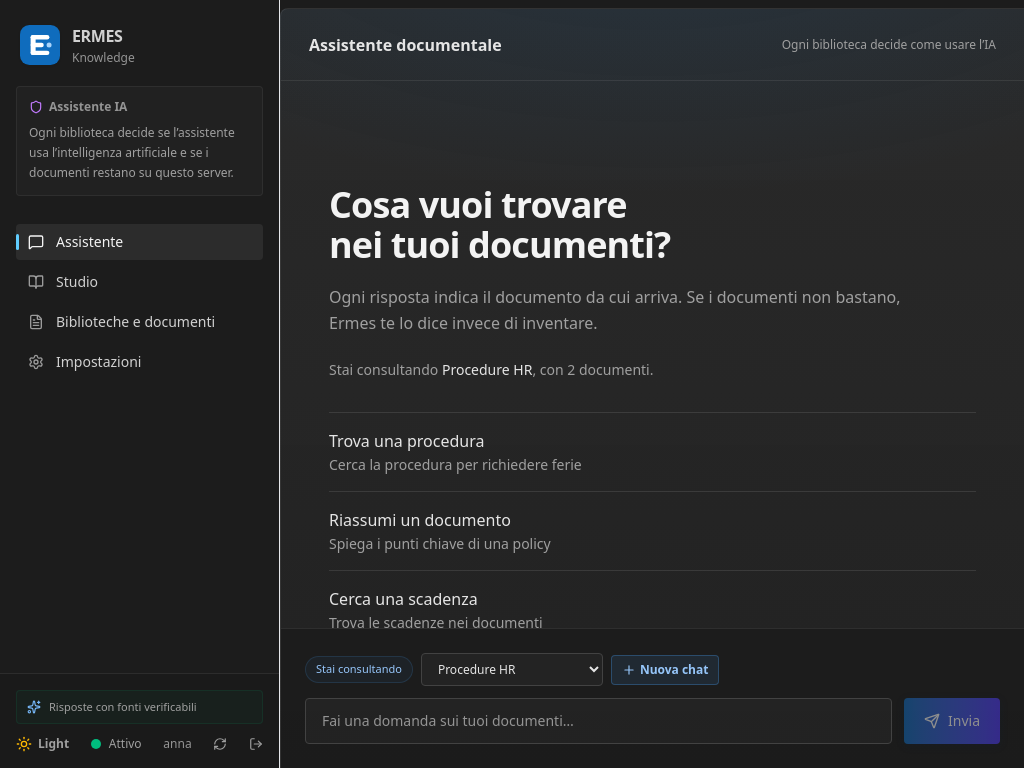
Test: App — SSE answer stream › renders status steps, then the final answer with its citations
The image size is (1024, 768).
Expected: the text "Procedure HR" is shown, [442,360,532,379]
Type "Con quanto anticipo chiedo le ferie?" into the field with placeholder "Fai una domanda sui tuoi documenti…". click: (598, 721)
box: [305,698,892,744]
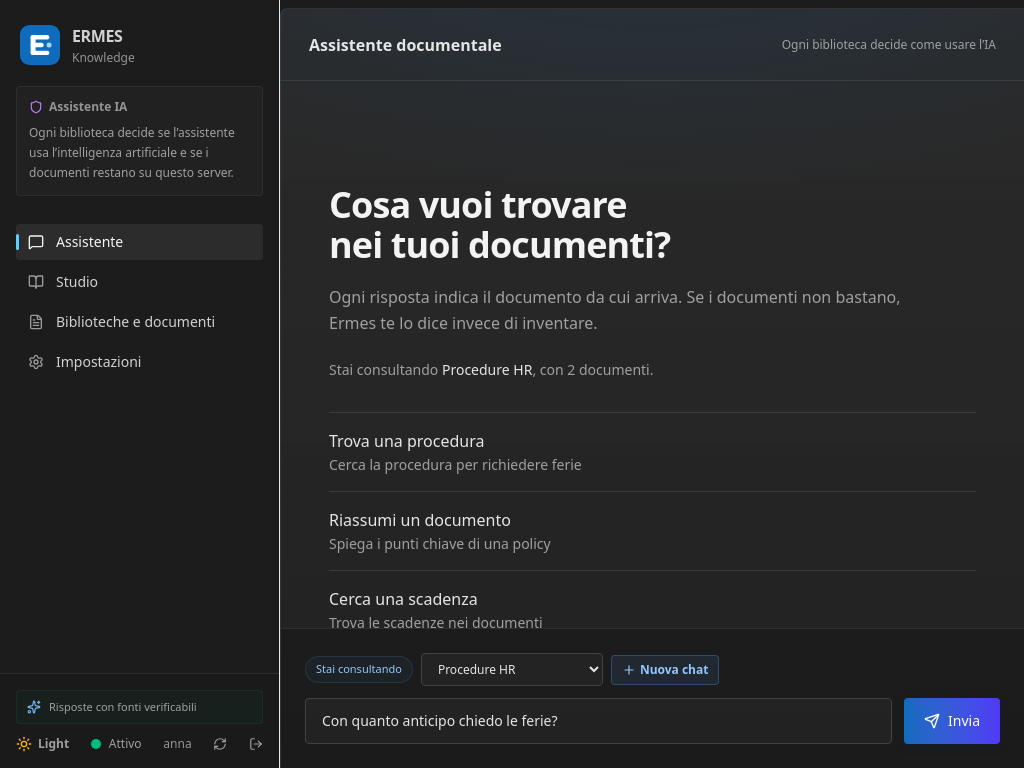
Submit the form with placeholder "fai una domanda", box [305,698,1000,744]
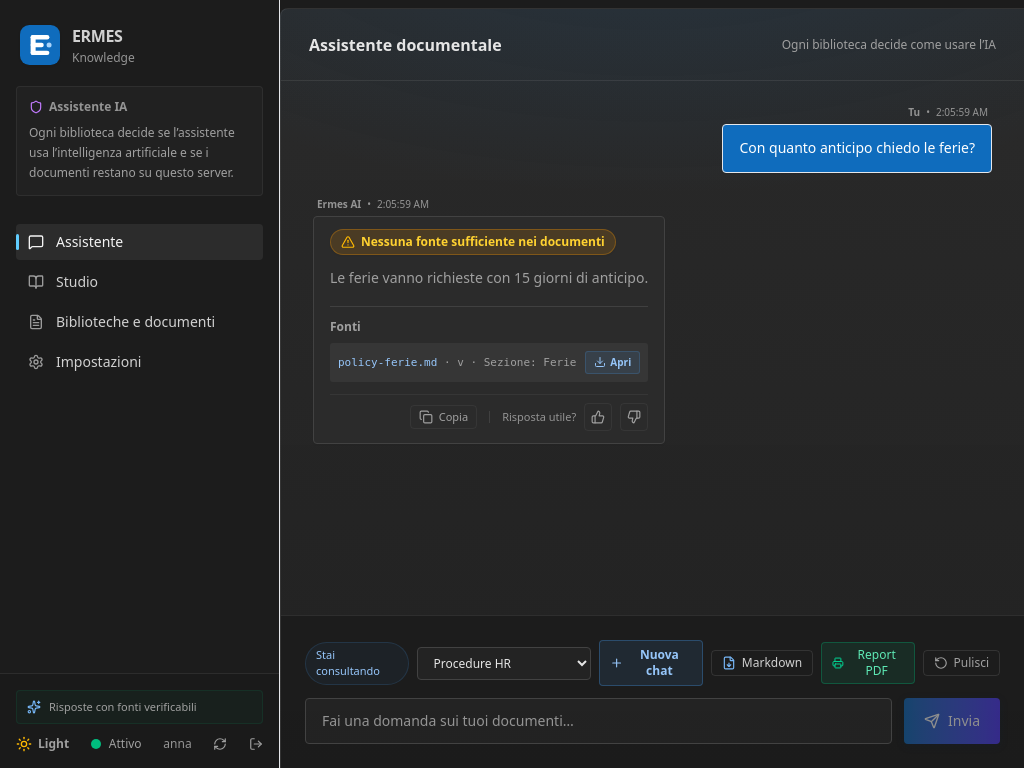
Expected: the text "Le ferie vanno richieste con 15 giorni di anticipo." is shown, [330,268,648,287]
Expected: the text "policy-ferie.md" is shown, [338,356,437,369]
Expected: the text "Con quanto anticipo chiedo le ferie?" is shown, [739,138,975,157]
